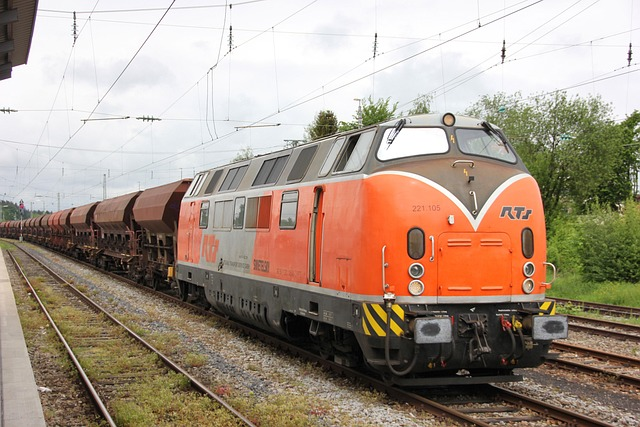train1: (169, 114, 560, 385)
